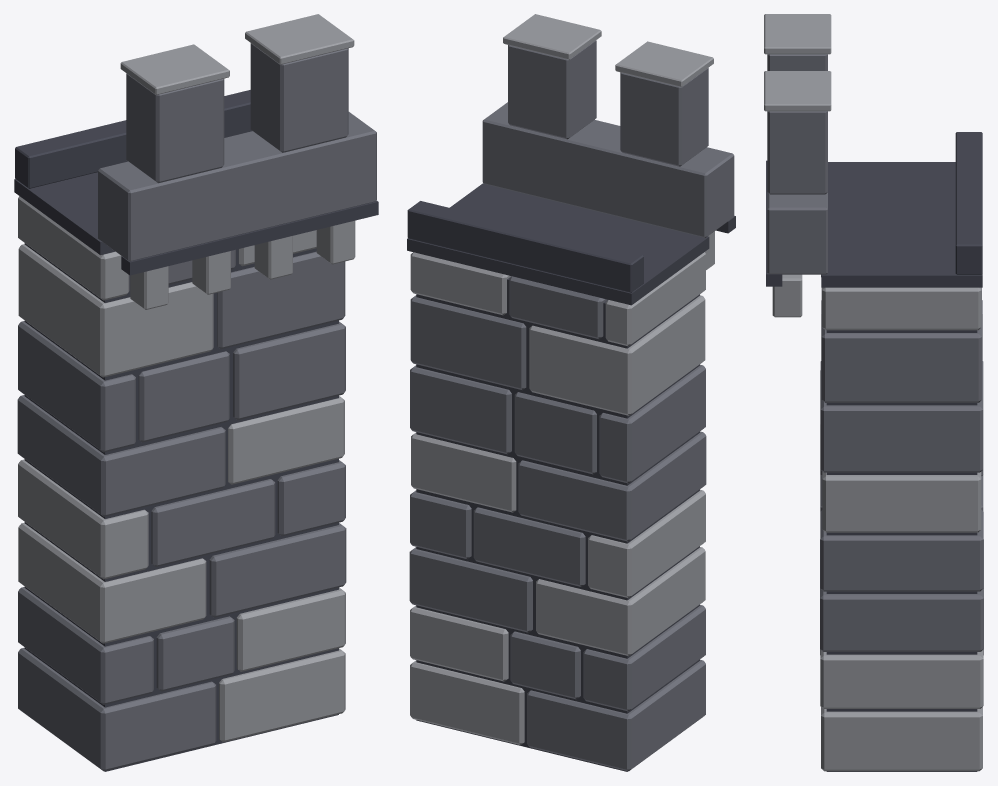
Rendered from Rampart_Wall.fbx.
3 renders of one model, left to right at view 1: azimuth 30°, elevation 25°; view 2: azimuth 150°, elevation 25°; view 3: azimuth 270°, elevation 25°, orthographic. The views are drawn at different scales.
Visible parts, largest first — view 1: Rampart_Wall; view 2: Rampart_Wall; view 3: Rampart_Wall.
Part boxes in pixels (bbox=[...]): Rampart_Wall: bbox=[14, 14, 378, 771]; Rampart_Wall: bbox=[407, 14, 735, 771]; Rampart_Wall: bbox=[764, 14, 983, 771].
Bounding box in the file's own units: 2 × 5.41 × 1.63.
